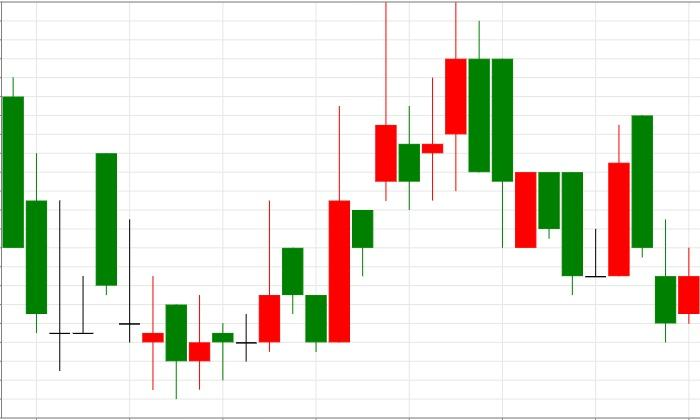morning_star_rise: (469, 19, 631, 295)
